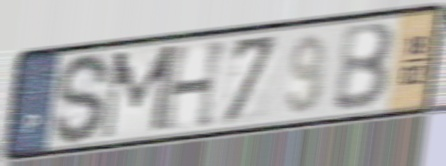7: (225, 31, 282, 128)
9: (285, 31, 332, 117)
B: (331, 19, 397, 115)
H: (158, 36, 233, 135)
M: (98, 42, 177, 144)
S: (51, 50, 114, 147)
